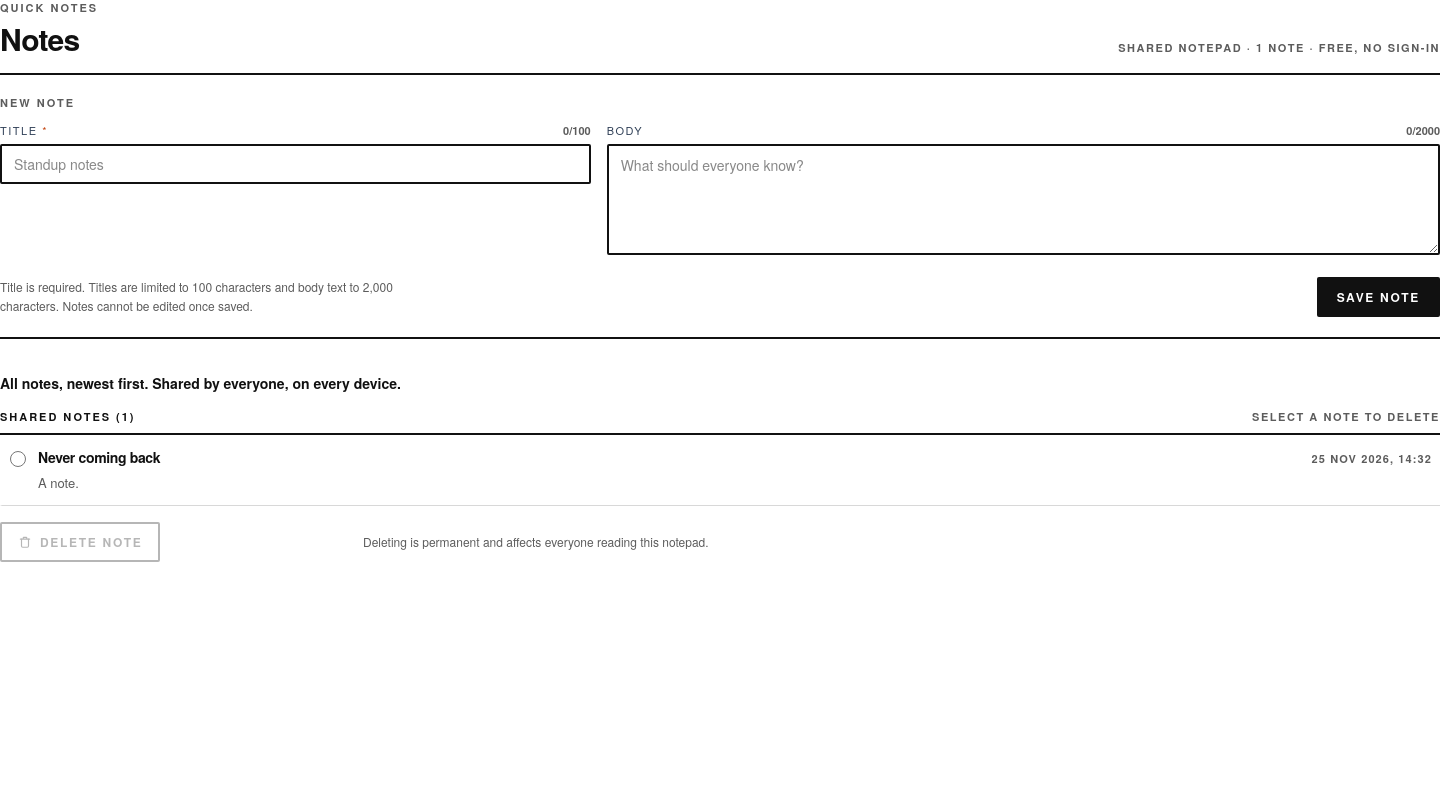
Scenario: Notes screen › [AC-012] the deleted note cannot be found again: no trash, no undo offered
This screenshot has width=1440, height=810.
Check: the list with test id "shared-notes-3-list" is shown, box [0, 435, 1439, 506]
Click the radio button labelled "Never coming back".
click(18, 459)  # box [10, 451, 26, 467]
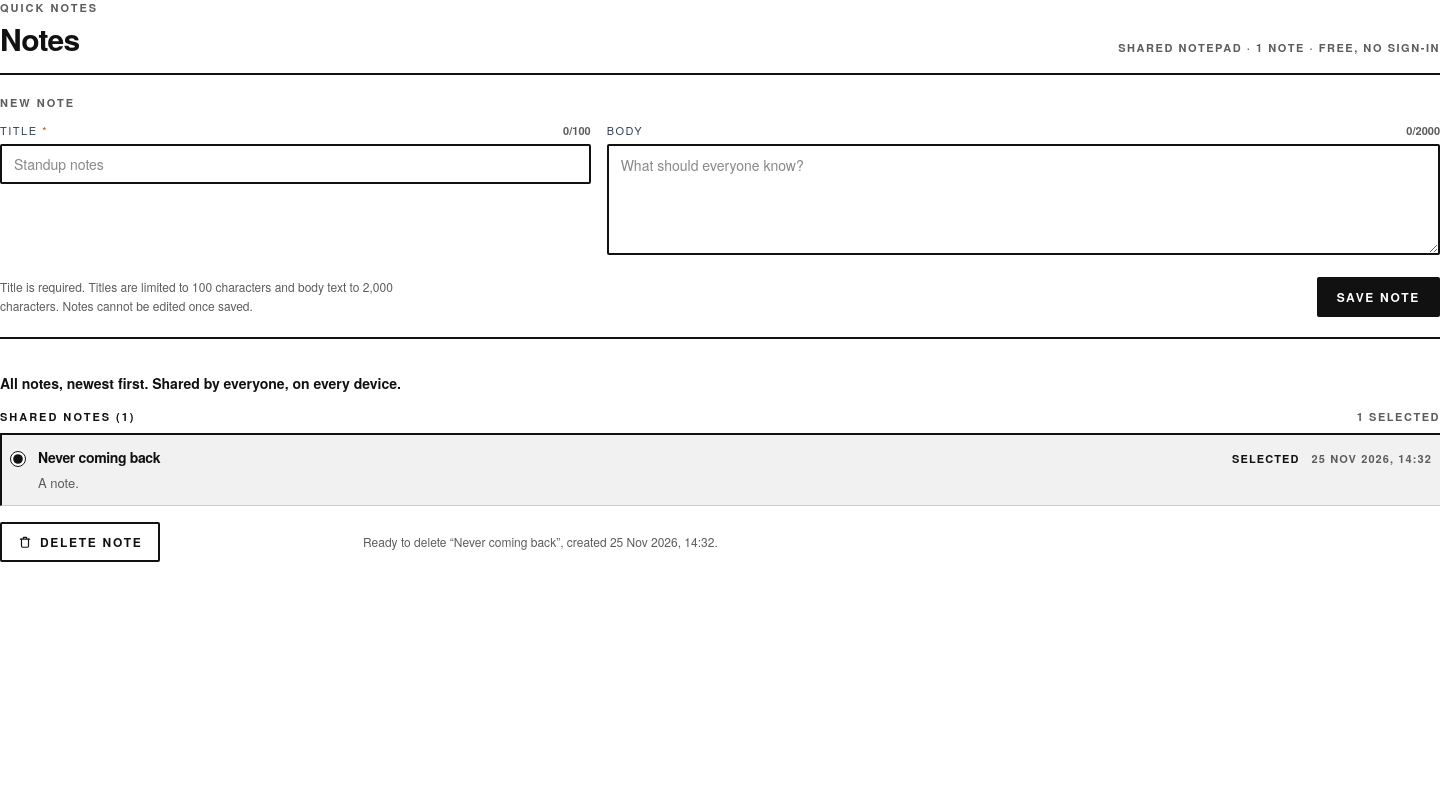
Click the button with test id "delete-note-btn".
click(80, 542)  # box [0, 522, 160, 562]
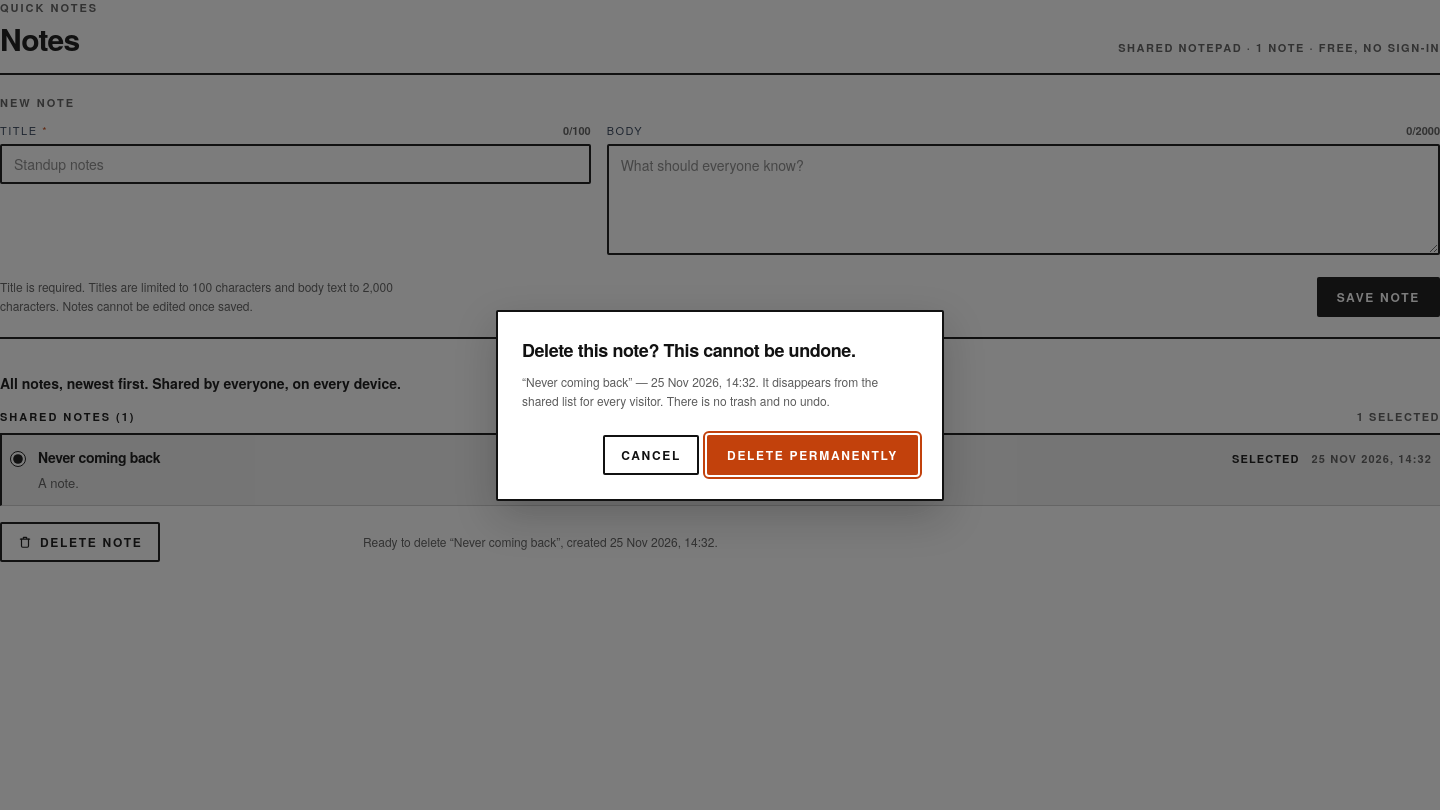
Check: the element with test id "delete-this-note-this-cannot-be-un-modal" is shown
Click the button "Delete permanently".
click(813, 454)  # box [707, 434, 918, 474]
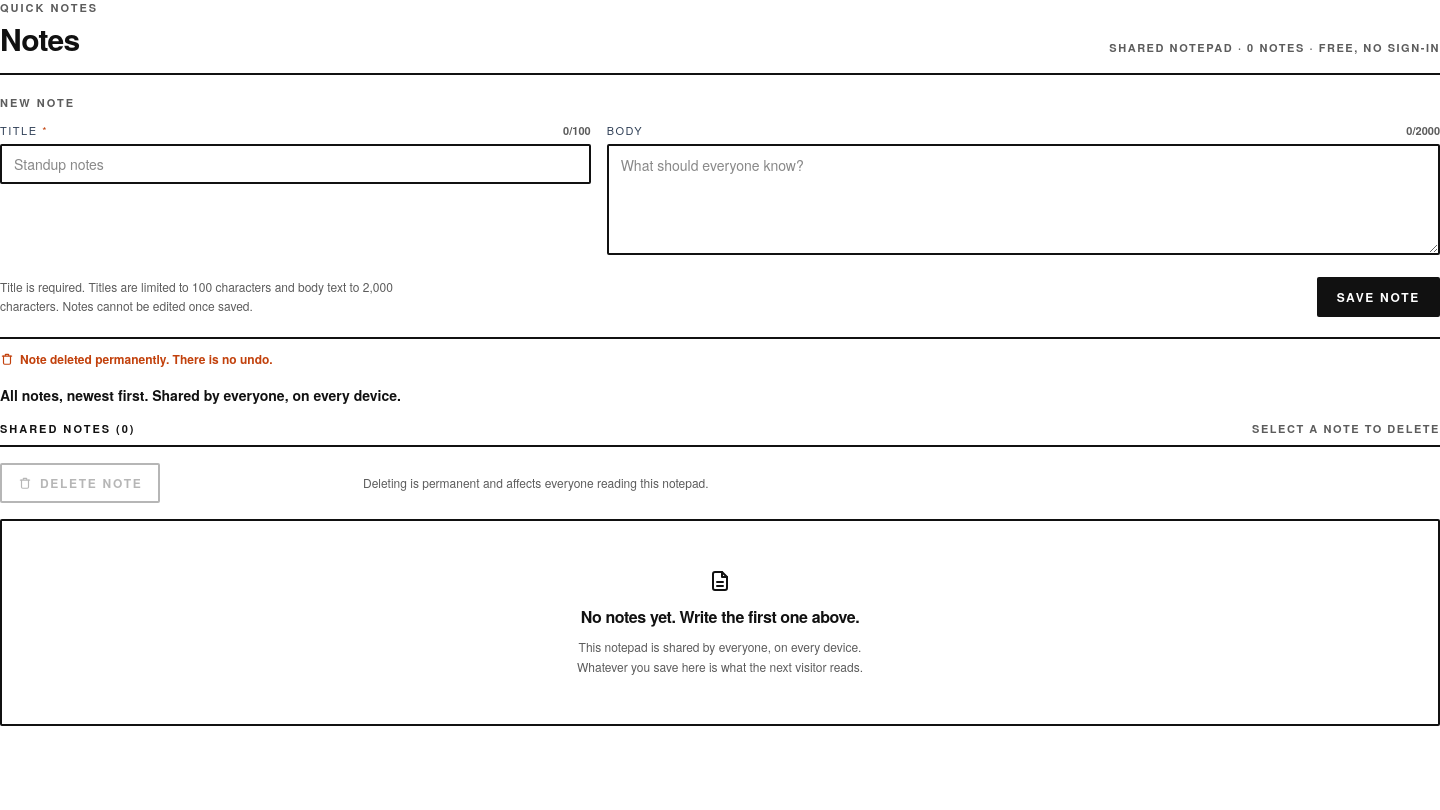
Check: the text "Never coming back" is gone
Check: the text "trash" is gone
